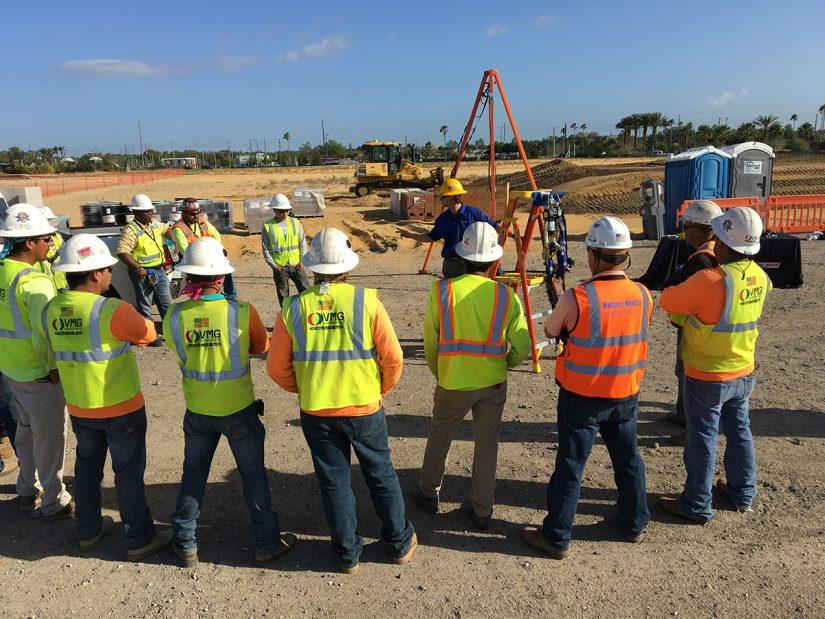helmet: (301, 227, 363, 278), (51, 233, 121, 275), (711, 206, 765, 258), (175, 237, 237, 279), (454, 222, 505, 265), (1, 204, 60, 241), (584, 216, 636, 252), (677, 199, 724, 228), (435, 178, 469, 200), (177, 196, 204, 217), (130, 193, 157, 213), (268, 193, 294, 212)
